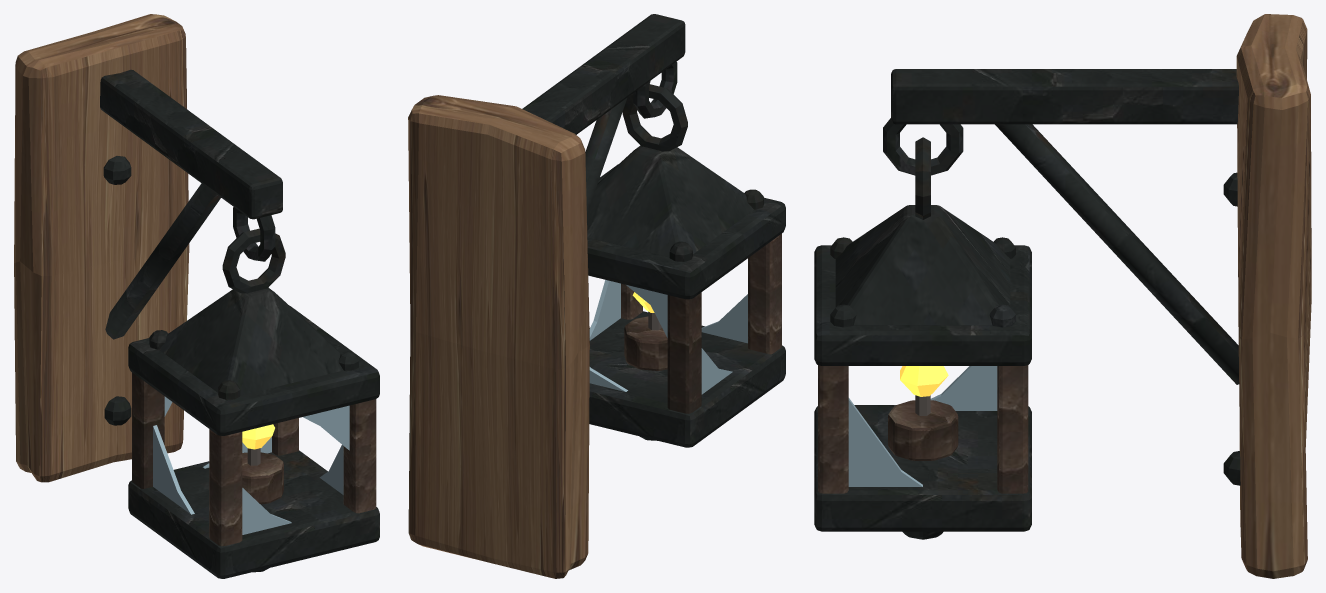
The model's file is mine_lamp.glb.
3 views of the same model, side by side, from view 1: azimuth 30°, elevation 25°; view 2: azimuth 150°, elevation 25°; view 3: azimuth 270°, elevation 25° (orthographic). The views are drawn at different scales.
Visible parts, largest first — view 1: bracket, lantern, flame; view 2: bracket, lantern; view 3: bracket, lantern, flame.
Boxes of the visible parts, x1,y1,x2,y2 form: bracket: [14, 14, 282, 482]; lantern: [128, 228, 379, 578]; flame: [242, 424, 274, 449]; bracket: [408, 14, 685, 578]; lantern: [587, 84, 785, 447]; bracket: [883, 14, 1311, 578]; lantern: [814, 137, 1031, 539]; flame: [900, 366, 948, 396].
Size of the model in its own units: 0.1701 by 0.4263 by 0.3883.
Materials: 9 (5 with a texture image).
